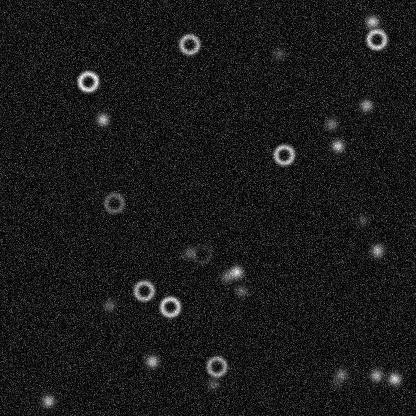Ring: (101, 190, 125, 214), (271, 142, 295, 166), (131, 278, 155, 302), (177, 32, 201, 56), (204, 354, 228, 378), (189, 241, 213, 265), (364, 27, 388, 51), (75, 69, 99, 93), (157, 294, 181, 318)
Spot: (40, 392, 56, 408), (357, 97, 373, 113), (94, 111, 110, 127), (386, 370, 402, 386), (228, 263, 244, 279), (369, 242, 385, 258), (364, 13, 380, 29), (354, 212, 370, 228), (328, 375, 344, 391), (329, 137, 345, 153), (101, 296, 117, 312), (233, 282, 249, 298), (218, 268, 234, 284), (143, 353, 159, 369), (323, 116, 339, 132), (270, 45, 286, 61), (332, 366, 348, 382), (205, 375, 221, 391), (180, 245, 196, 261), (368, 367, 384, 383)
